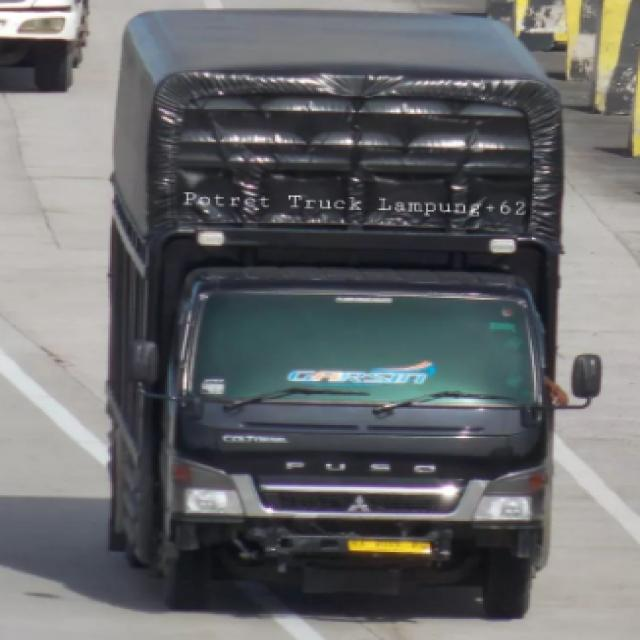Truck: (107, 11, 620, 626)
